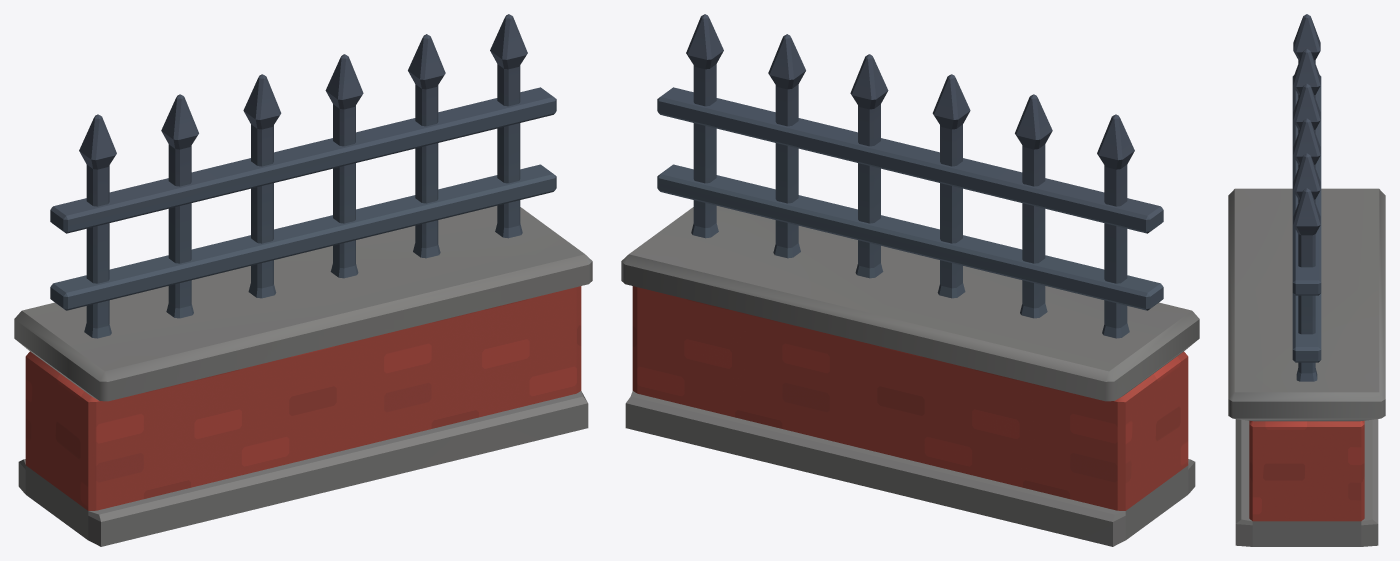
Rendered from BrickWall_4_1.fbx.
The picture shows the model from 3 angles, left to right: view 1: azimuth 30°, elevation 25°; view 2: azimuth 150°, elevation 25°; view 3: azimuth 270°, elevation 25°; orthographic projection. The views are drawn at different scales.
Visible parts, largest first — view 1: BrickWall_4_1; view 2: BrickWall_4_1; view 3: BrickWall_4_1.
Part boxes in pixels (x1,y1,x2,y2): BrickWall_4_1: [14, 14, 592, 546]; BrickWall_4_1: [621, 14, 1199, 546]; BrickWall_4_1: [1228, 14, 1385, 546].
Bounding box in the file's own units: 200 × 152 × 63.57.
